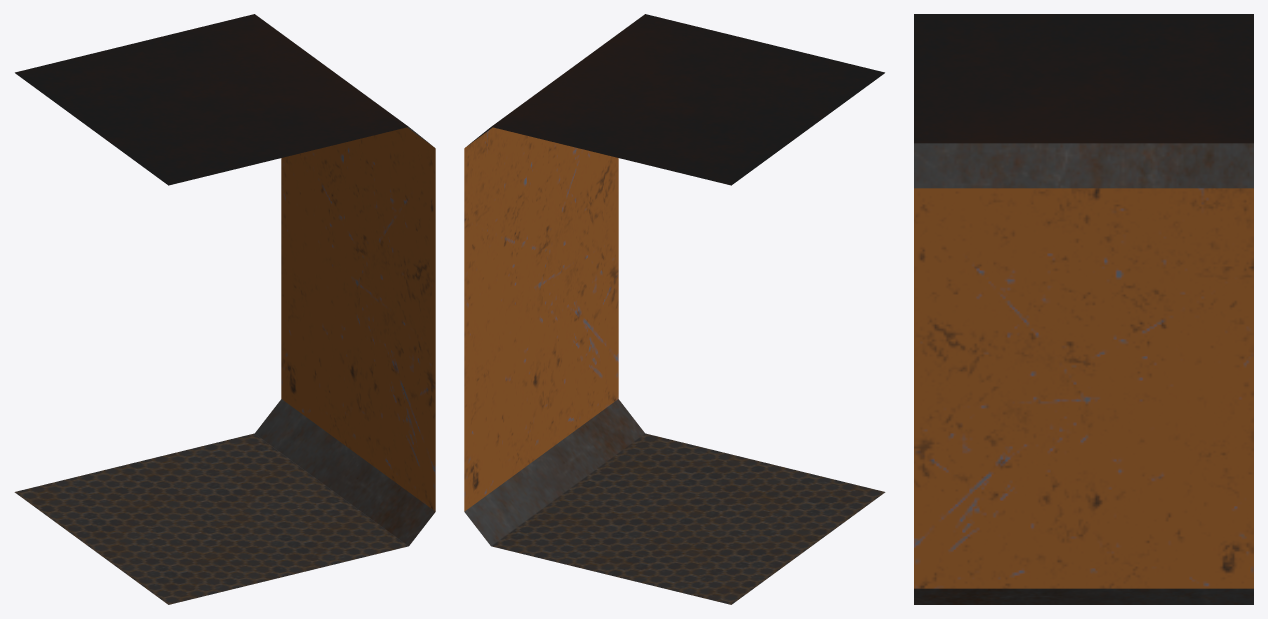
The model's file is RoomSide.fbx.
3 views of the same model, side by side, from view 1: azimuth 30°, elevation 25°; view 2: azimuth 150°, elevation 25°; view 3: azimuth 270°, elevation 25° (orthographic). The views are drawn at different scales.
Visible parts, largest first — view 1: RoomSide; view 2: RoomSide; view 3: RoomSide.
Part boxes in pixels (x1,y1,x2,y2): RoomSide: [14, 14, 435, 604]; RoomSide: [464, 14, 885, 604]; RoomSide: [914, 14, 1253, 604].
Size of the model in its own units: 200 by 300 by 200.
1 material, 1 textured.
